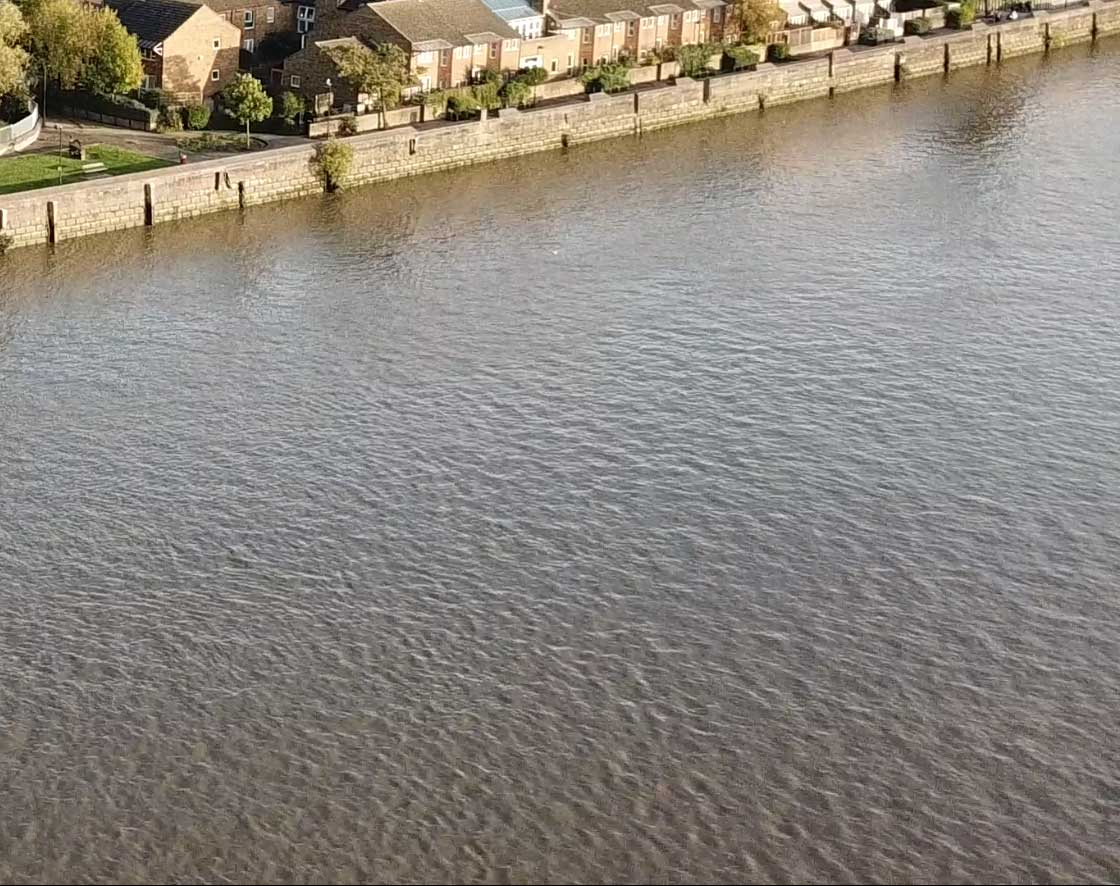water: (203, 251, 1021, 788)
